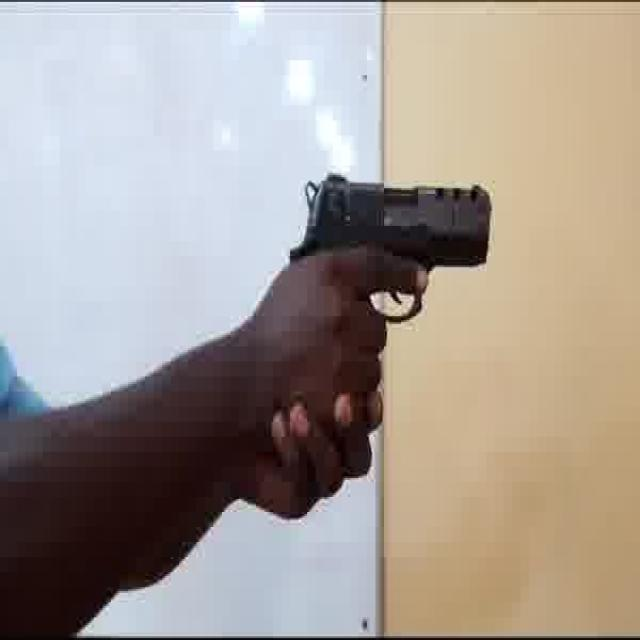weapon: (288, 171, 492, 328)
